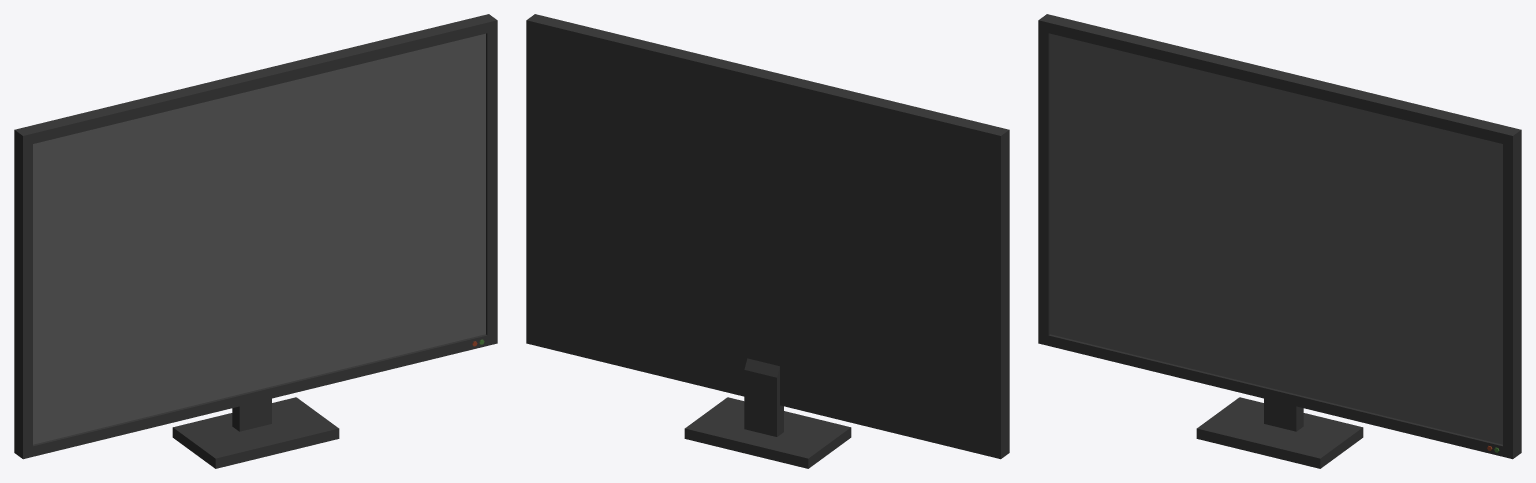
File: SM_Props_TV_02.fbx
3 views of the same model, side by side, from view 1: azimuth 30°, elevation 25°; view 2: azimuth 150°, elevation 25°; view 3: azimuth 330°, elevation 25° (orthographic).
Visible parts, largest first — view 1: SM_Props_TV_02; view 2: SM_Props_TV_02; view 3: SM_Props_TV_02.
Boxes of the visible parts, x1,y1,x2,y2 form: SM_Props_TV_02: (14, 14, 497, 468); SM_Props_TV_02: (526, 14, 1009, 468); SM_Props_TV_02: (1038, 14, 1521, 468).
Bounding box in the file's own units: 0.96 × 0.7023 × 0.15.
